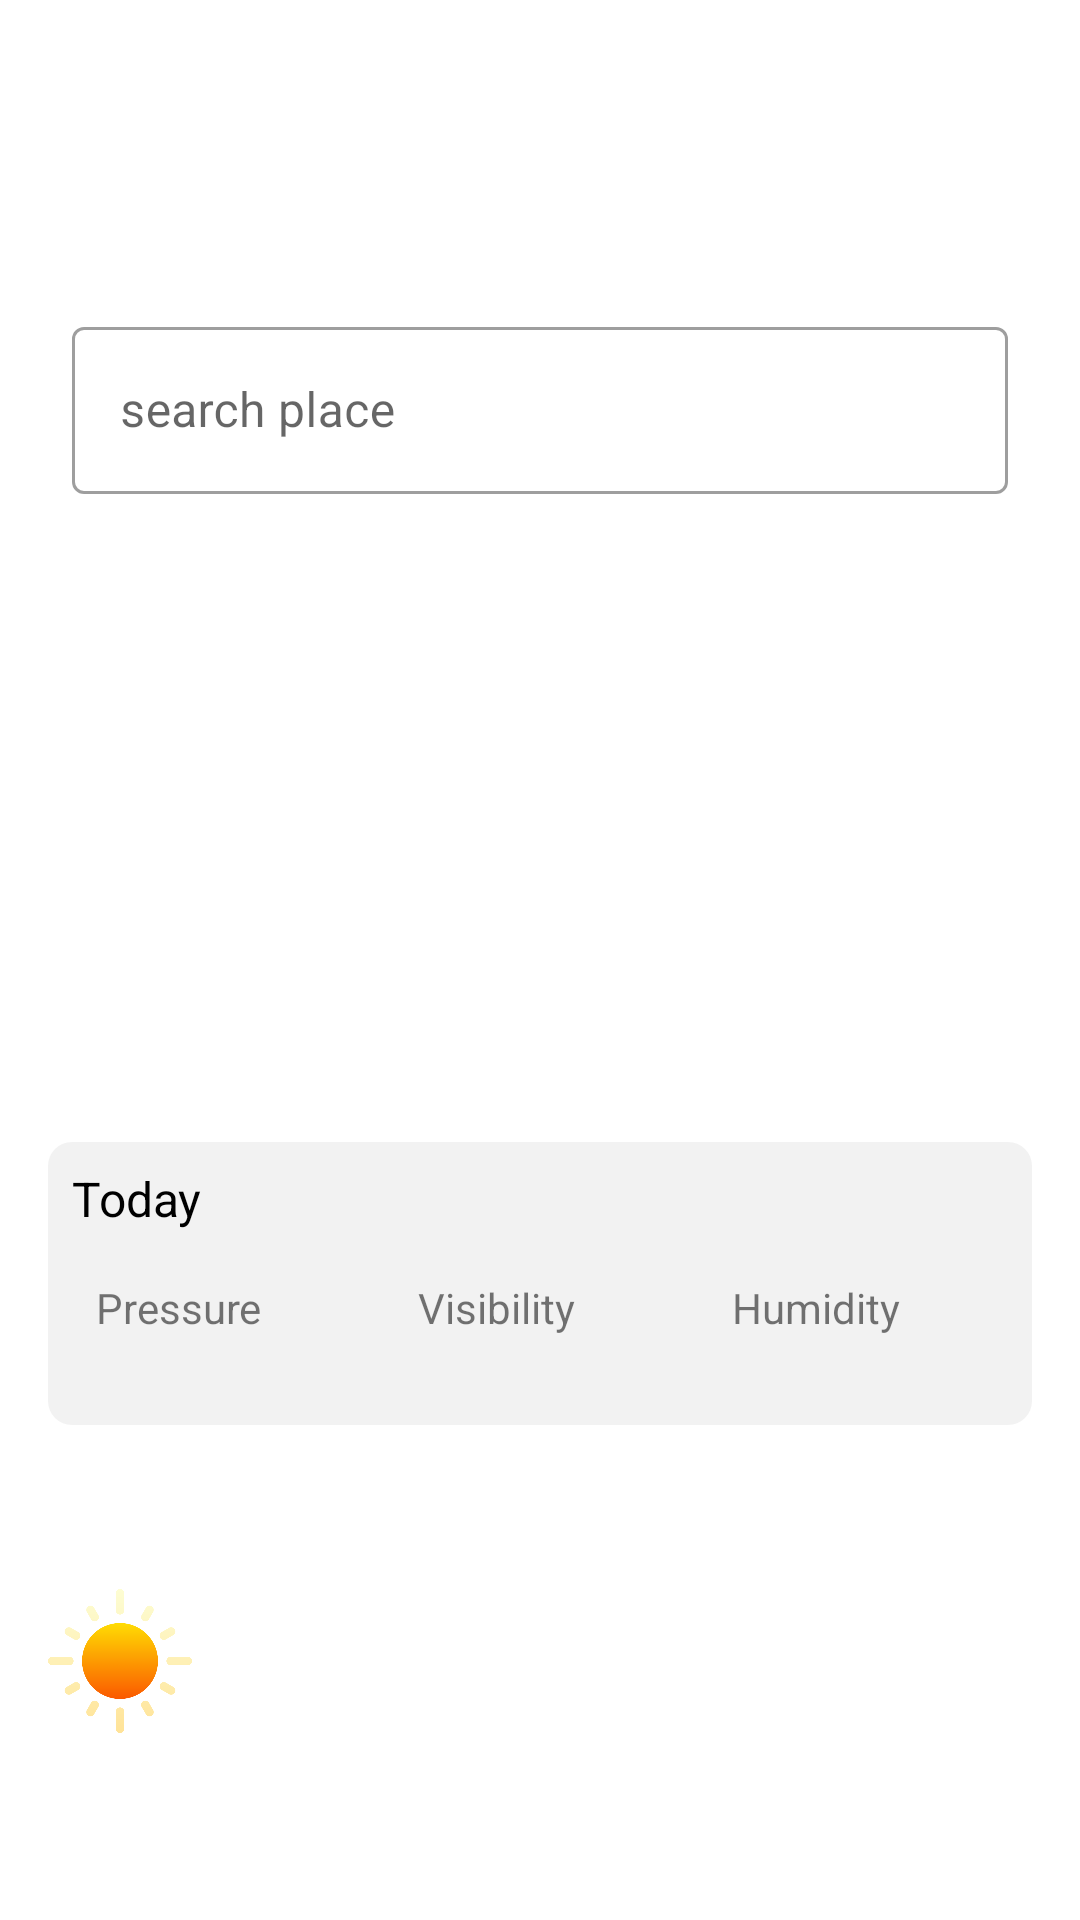

Screen size 1080x1920. Icon name, then its center in pixels as [x,y]:
sun: [120,1661]
